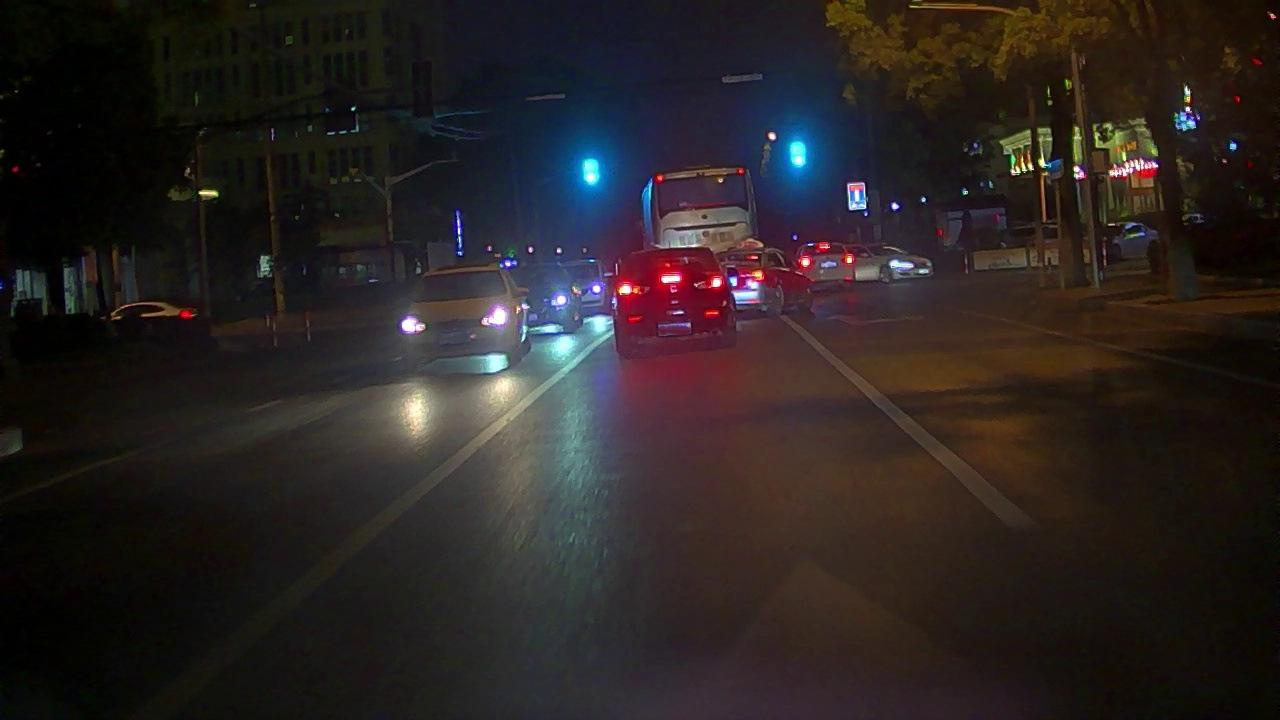traffic_light: (580, 153, 602, 187), (786, 135, 807, 169)
